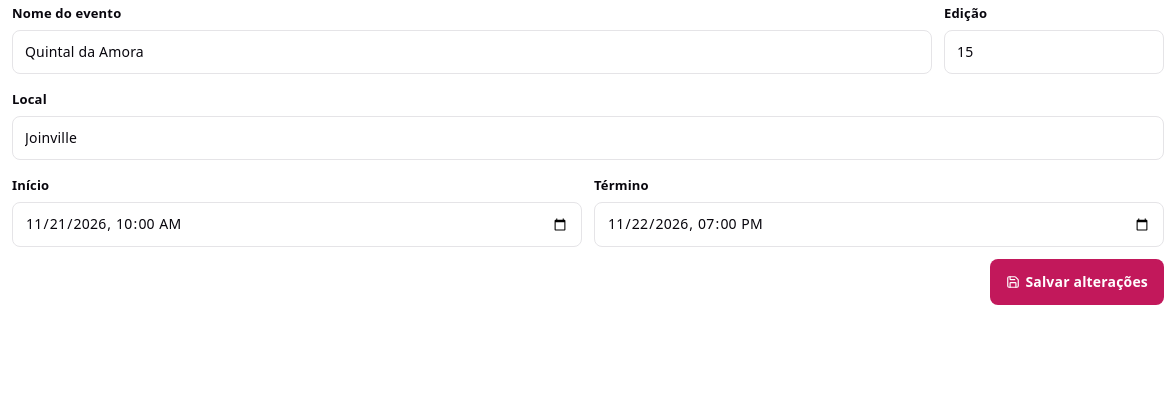
Test: EventForm › mostra o erro do servidor
Click the button "Salvar alterações": (1077, 282) [990, 259, 1164, 305]
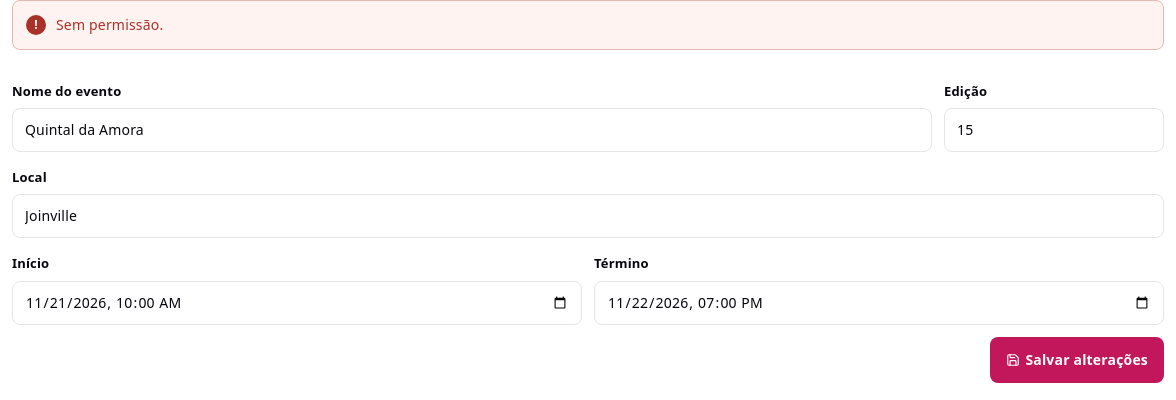
Expected: the message shows "Sem permissão.", [56, 15, 163, 34]
